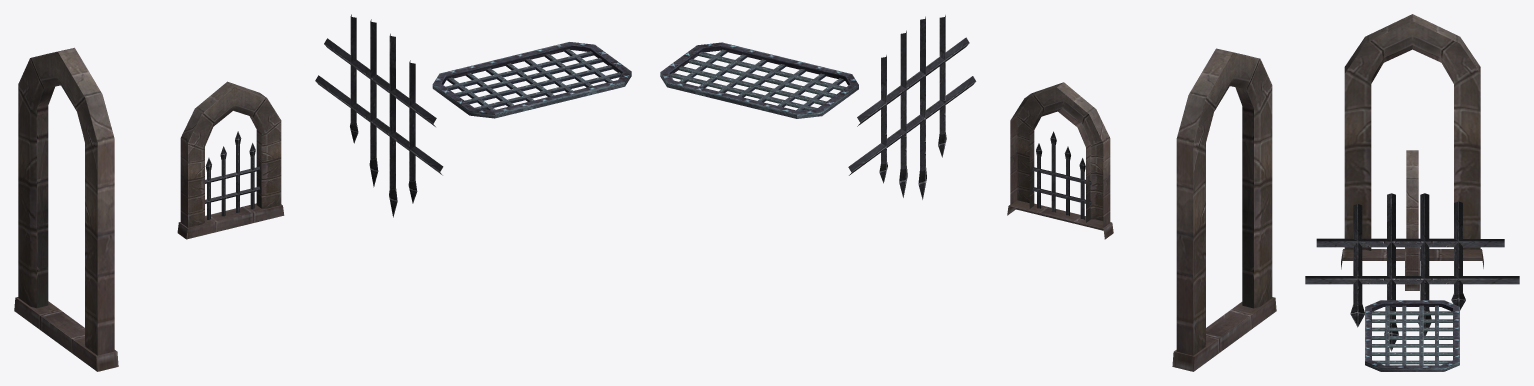
Rendered from zw_kuang.FBX.
3 renders of one model, left to right at view 1: azimuth 30°, elevation 25°; view 2: azimuth 150°, elevation 25°; view 3: azimuth 270°, elevation 25°, orthographic. The views are drawn at different scales.
Parts seen in each view (by area): view 1: kuang1, kuang2, s_liank, tiemeng; view 2: kuang1, kuang2, s_liank, tiemeng; view 3: kuang1, tiemeng, s_liank, kuang2.
Part boxes in pixels (left/top/right/bottom): kuang1: left=14, top=47, right=118, bottom=371; kuang2: left=177, top=81, right=284, bottom=239; s_liank: left=432, top=42, right=631, bottom=118; tiemeng: left=315, top=14, right=443, bottom=217; kuang1: left=1172, top=48, right=1276, bottom=371; kuang2: left=1007, top=82, right=1113, bottom=239; s_liank: left=660, top=42, right=858, bottom=118; tiemeng: left=848, top=15, right=976, bottom=199; kuang1: left=1341, top=14, right=1483, bottom=269; tiemeng: left=1305, top=193, right=1519, bottom=351; s_liank: left=1365, top=300, right=1459, bottom=371; kuang2: left=1405, top=150, right=1419, bottom=290.
Bounding box in the file's own units: 1096 × 543 × 426.
